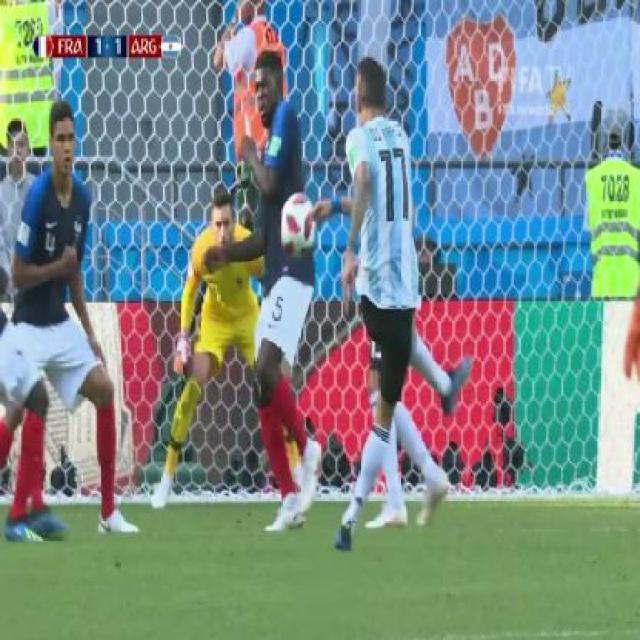ball: (278, 187, 320, 258)
player: (329, 33, 460, 562), (1, 82, 129, 555), (226, 20, 329, 554), (152, 169, 278, 500)
